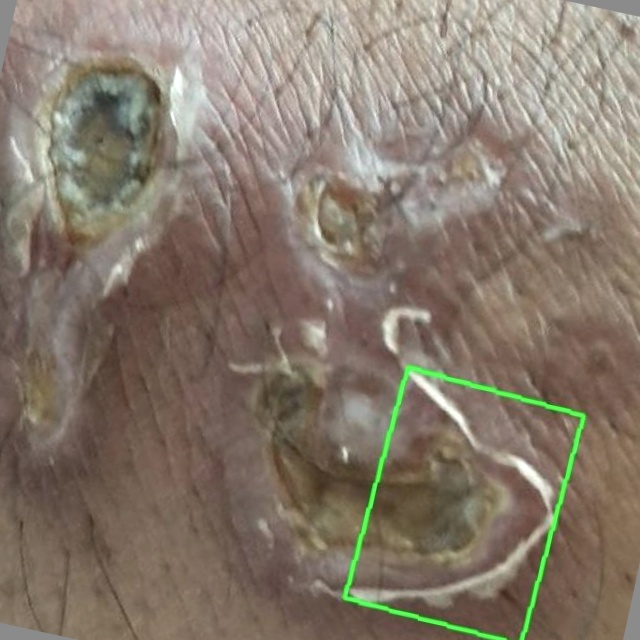Contact Dermatitis: (345, 368, 583, 639)
